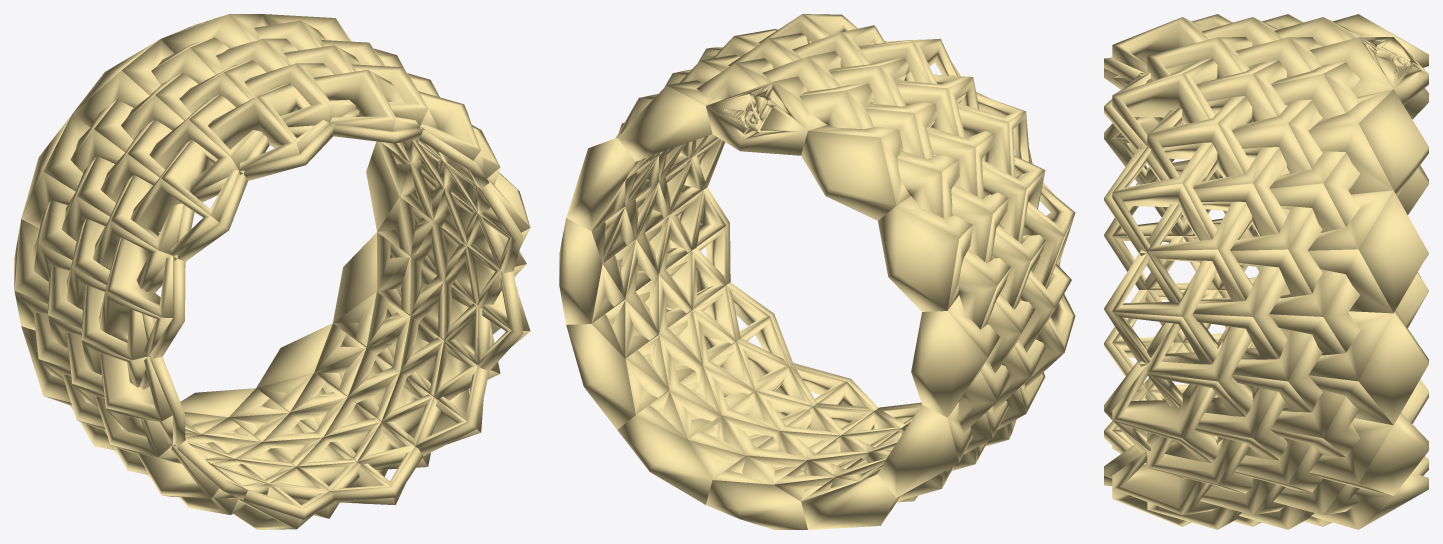
File: TRICUBICGBL.glb
The picture shows the model from 3 angles, left to right: view 1: azimuth 30°, elevation 25°; view 2: azimuth 150°, elevation 25°; view 3: azimuth 270°, elevation 25°; orthographic projection. The views are drawn at different scales.
Visible parts, largest first — view 1: FIRMA002; view 2: FIRMA002; view 3: FIRMA002.
Boxes of the visible parts, x1=… form: FIRMA002: x1=14, y1=14, x2=530, y2=529; FIRMA002: x1=559, y1=14, x2=1075, y2=529; FIRMA002: x1=1104, y1=14, x2=1428, y2=529.
Bounding box in the file's own units: 22.15 × 22.15 × 13.89.
